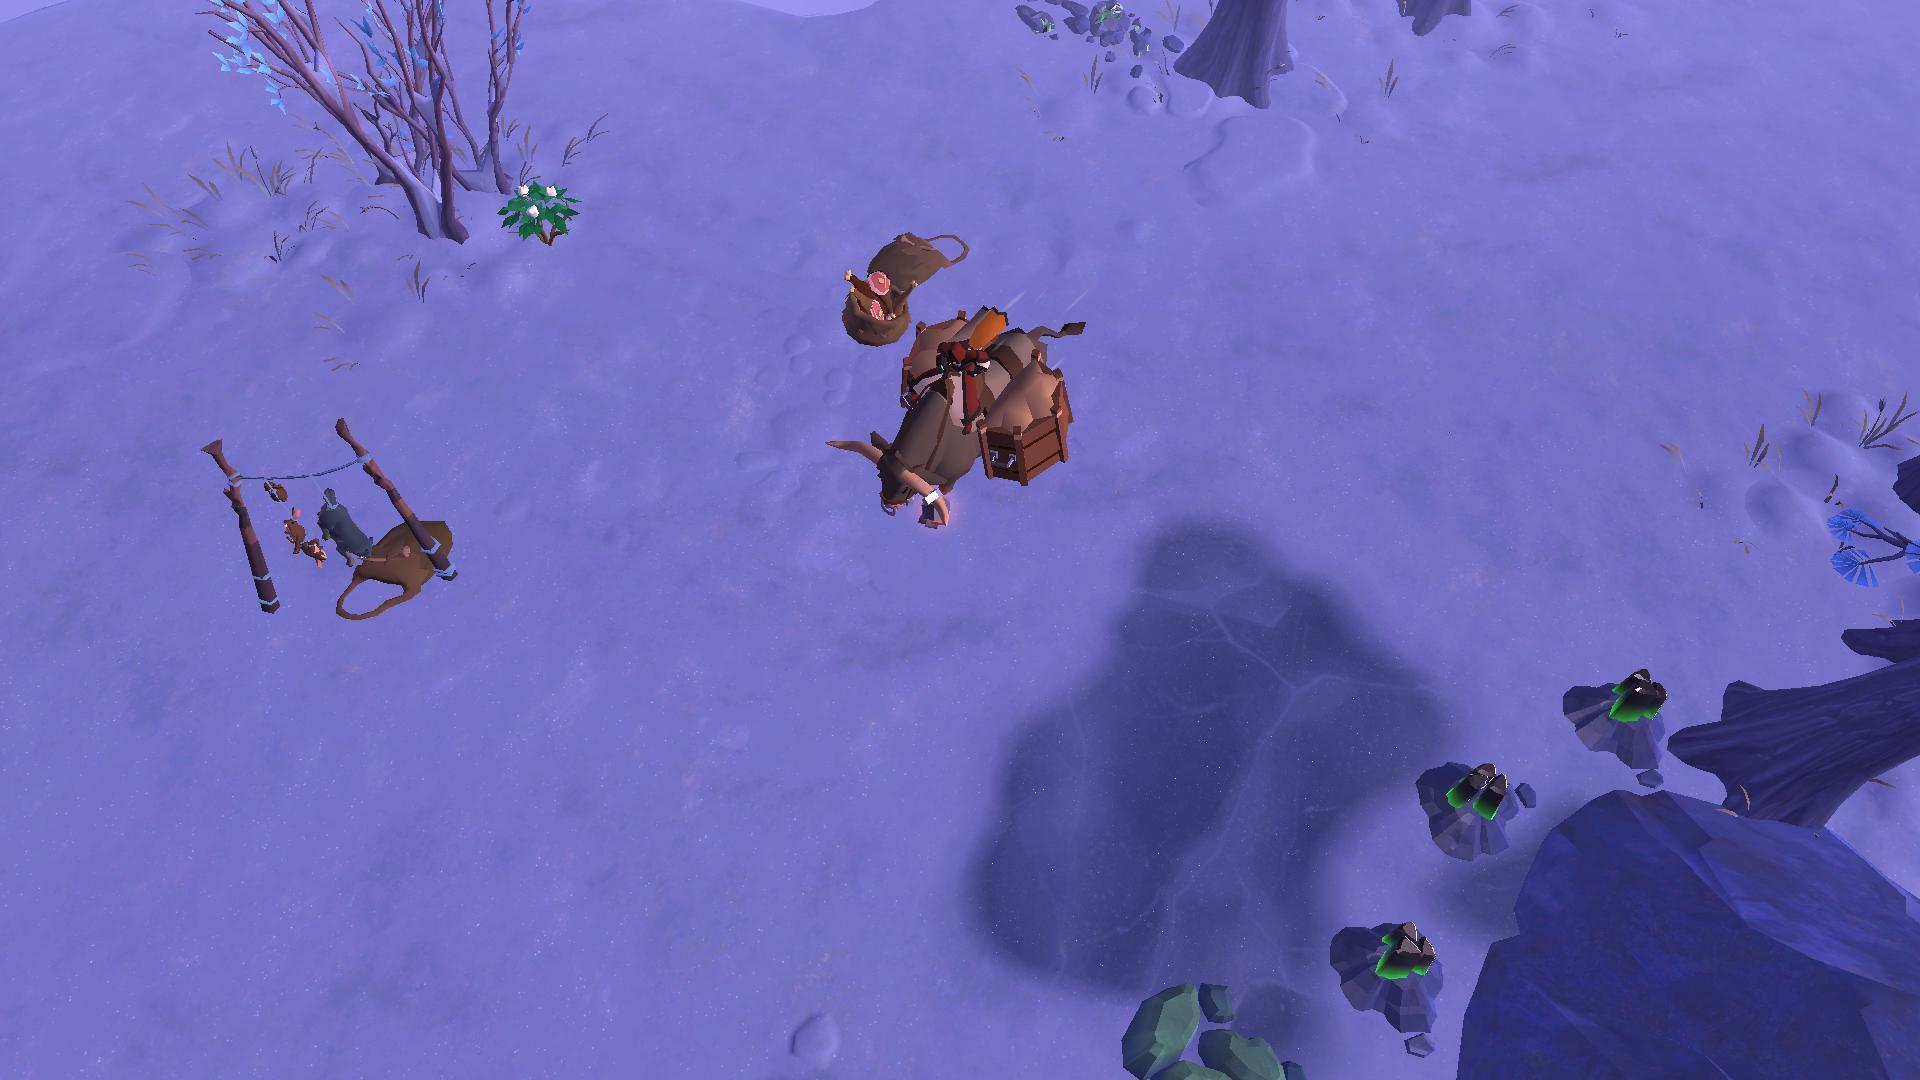fiber_t3: (492, 167, 582, 253)
ore_t3: (1600, 665, 1667, 737), (1444, 762, 1515, 825), (1377, 919, 1437, 985)
rock_t3: (1088, 955, 1320, 1080)
